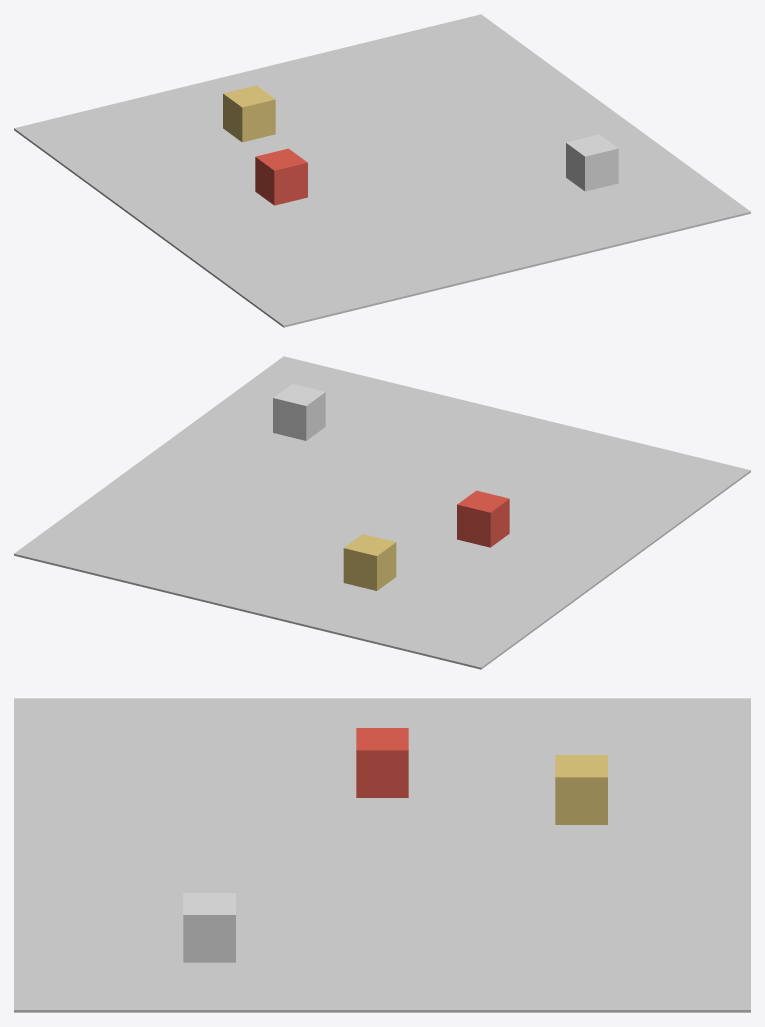
Rendered from Level_1.glb.
The picture shows the model from 3 angles, top to bottom: view 1: azimuth 30°, elevation 25°; view 2: azimuth 150°, elevation 25°; view 3: azimuth 270°, elevation 25°; orthographic projection. The views are drawn at different scales.
Parts seen in each view (by area): view 1: Floor, Cube.003, Cube.001, Cube.002; view 2: Floor, Cube.002, Cube.001, Cube.003; view 3: Floor, Cube.001, Cube.002, Cube.003.
Part boxes in pixels (box(x1,y1,x2,y2)): Floor: box(14, 14, 750, 327); Cube.003: box(566, 134, 618, 191); Cube.001: box(255, 148, 307, 205); Cube.002: box(223, 85, 275, 142); Floor: box(14, 356, 750, 669); Cube.002: box(343, 534, 396, 590); Cube.001: box(457, 490, 509, 547); Cube.003: box(273, 384, 325, 440); Floor: box(14, 698, 750, 1012); Cube.001: box(356, 728, 408, 797); Cube.002: box(555, 755, 607, 824); Cube.003: box(183, 893, 235, 962).
Size of the model in its own units: 28 by 2.12 by 28.
